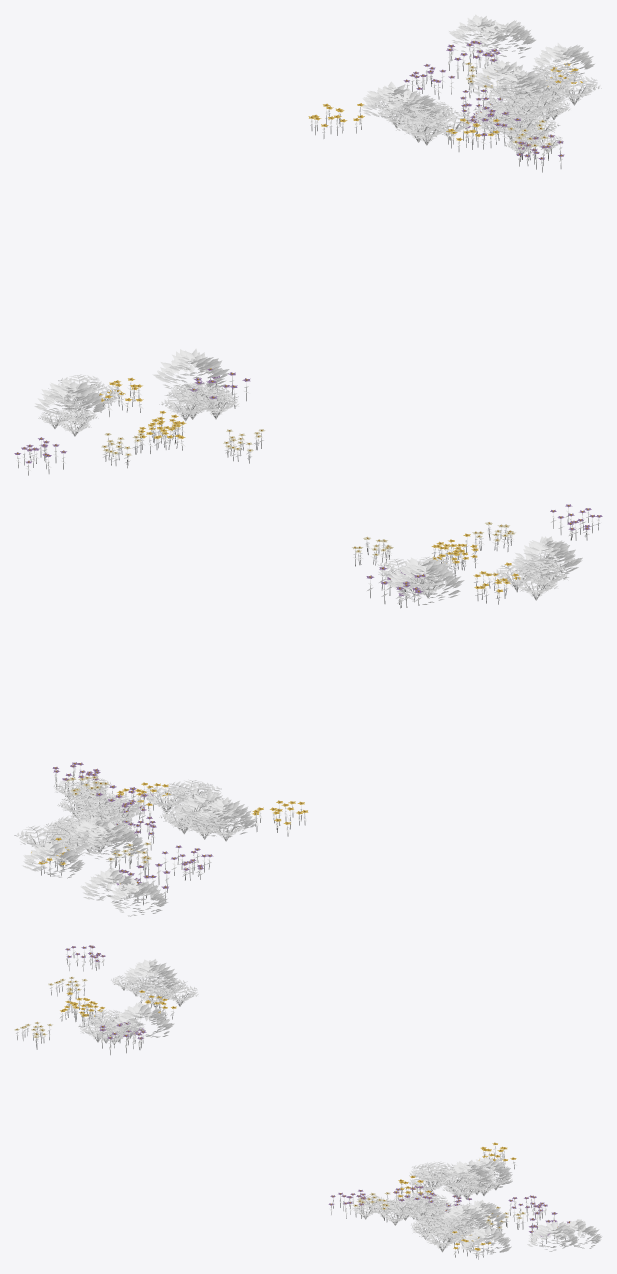
File: SM_DF_Explorer_2_1_Flora.fbx
3 renders of one model, top to bottom at view 1: azimuth 30°, elevation 25°; view 2: azimuth 210°, elevation 25°; view 3: azimuth 270°, elevation 25°, orthographic. The views are drawn at different scales.
Parts seen in each view (by area): view 1: SM_DF_Explorer_2_1_Flora; view 2: SM_DF_Explorer_2_1_Flora; view 3: SM_DF_Explorer_2_1_Flora.
Part boxes in pixels (x1=…): SM_DF_Explorer_2_1_Flora: x1=14, y1=14, x2=601, y2=475; SM_DF_Explorer_2_1_Flora: x1=14, y1=504, x2=602, y2=916; SM_DF_Explorer_2_1_Flora: x1=14, y1=945, x2=602, y2=1259.
Size of the model in its own units: 2680 by 2033 by 201.
